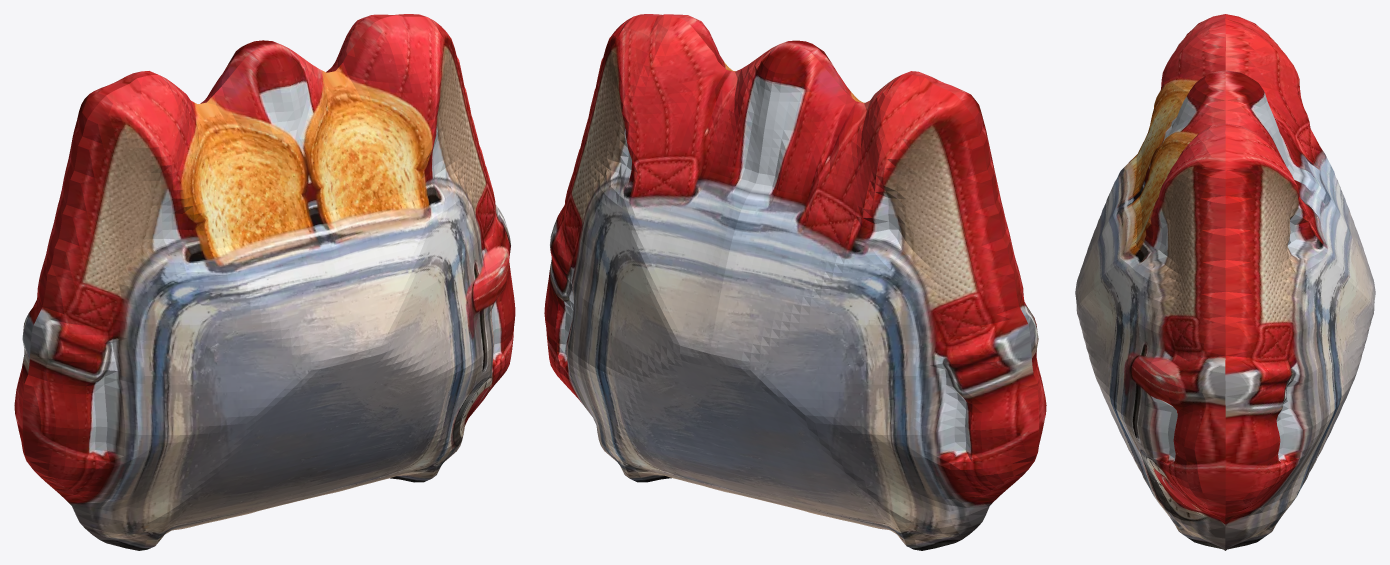
File: toaster_pack.glb
The picture shows the model from 3 angles, left to right: view 1: azimuth 30°, elevation 25°; view 2: azimuth 150°, elevation 25°; view 3: azimuth 270°, elevation 25°; orthographic projection. The views are drawn at different scales.
Parts seen in each view (by area): view 1: geometry_0; view 2: geometry_0; view 3: geometry_0.
Boxes of the visible parts, bbox=[...] form: geometry_0: bbox=[14, 14, 515, 550]; geometry_0: bbox=[544, 14, 1046, 550]; geometry_0: bbox=[1075, 14, 1375, 550].
Bounding box in the file's own units: 0.9783 × 0.8978 × 0.5964.
Materials: 1 (1 with a texture image).
